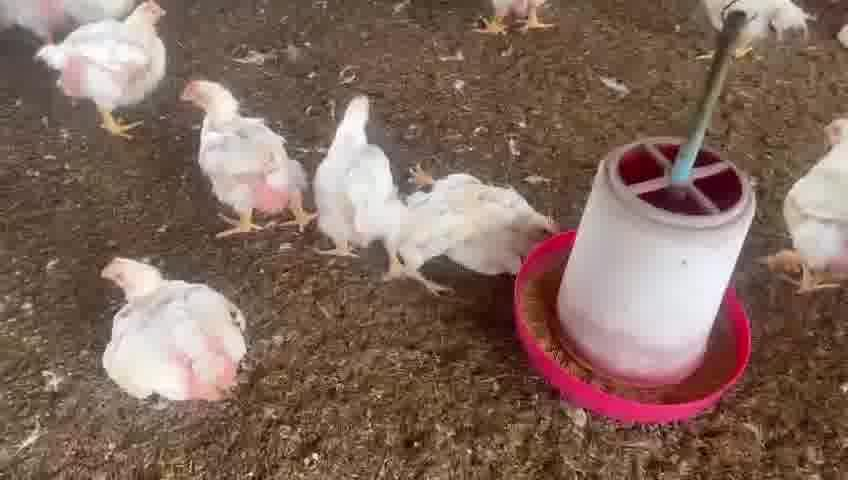AbNormal: (100, 259, 247, 399), (404, 163, 556, 252)
Normal: (181, 81, 313, 237), (314, 96, 403, 275), (49, 3, 164, 140), (774, 116, 848, 296), (478, 3, 556, 39)
